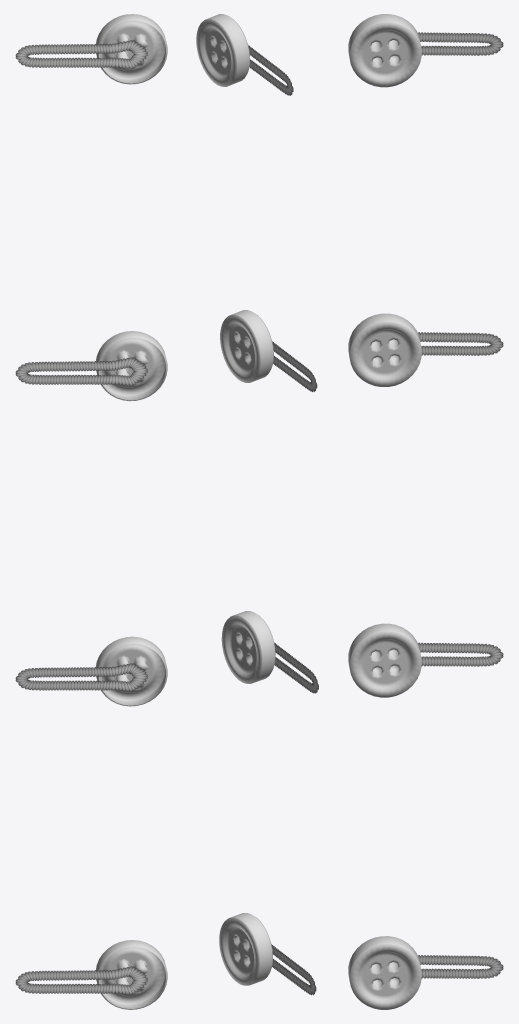
File: 4_buttons.glb
3 views of the same model, side by side, from view 1: azimuth 90°, elevation 25°; view 2: azimuth 210°, elevation 25°; view 3: azimuth 270°, elevation 25° (orthographic). The views are drawn at different scales.
Visible parts, largest first — view 1: SM_Button_4; view 2: SM_Button_4; view 3: SM_Button_4.
Part boxes in pixels (x1,y1,x2,y2): SM_Button_4: (15, 14, 167, 1009); SM_Button_4: (196, 14, 318, 995); SM_Button_4: (348, 14, 503, 1009).
Size of the model in its own units: 0.0617 by 1.17 by 0.1654.
Materials: 2 (1 with a texture image).
